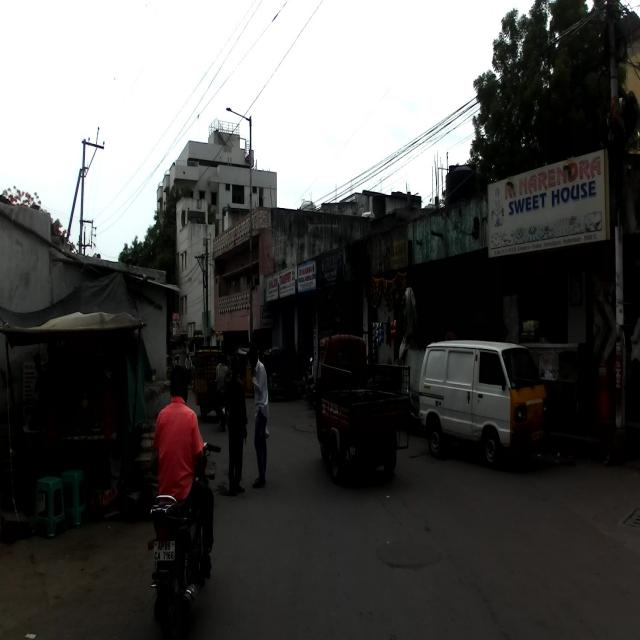Car_Maruti-Suzuki: (418, 339, 550, 472)
autorickshaw: (315, 326, 411, 488)
motorcycle_Hero: (145, 442, 223, 639)
